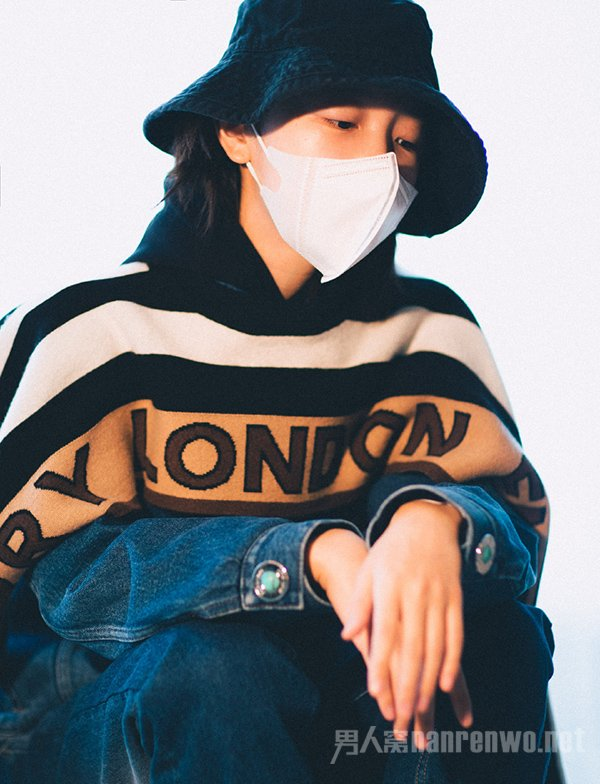mask: (248, 125, 441, 295)
